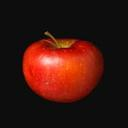apple: (21, 31, 107, 104)
